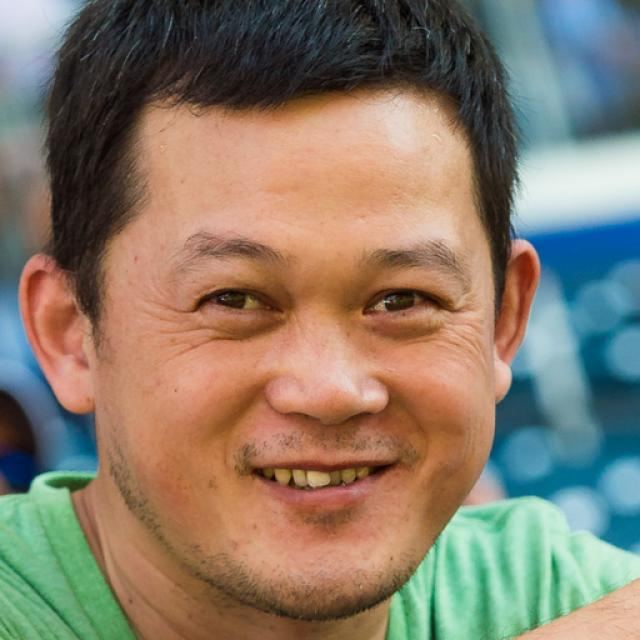happy: (101, 69, 504, 620)
